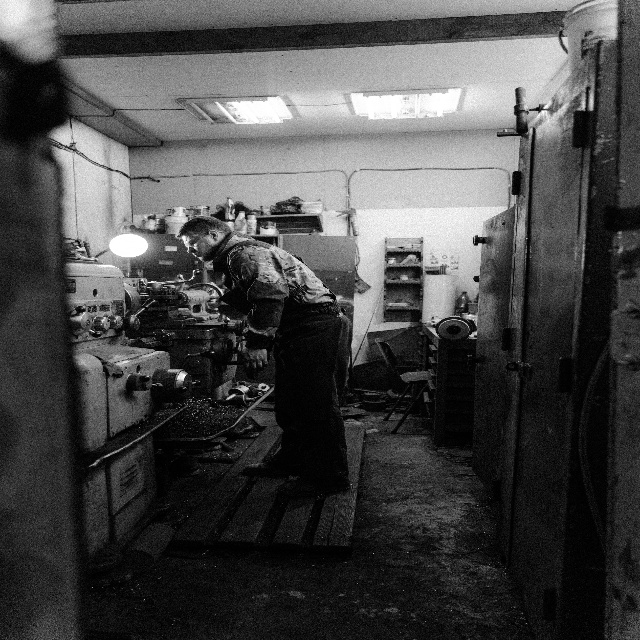Gafas: (185, 230, 223, 250)
Sin_guantes: (237, 346, 268, 373)
